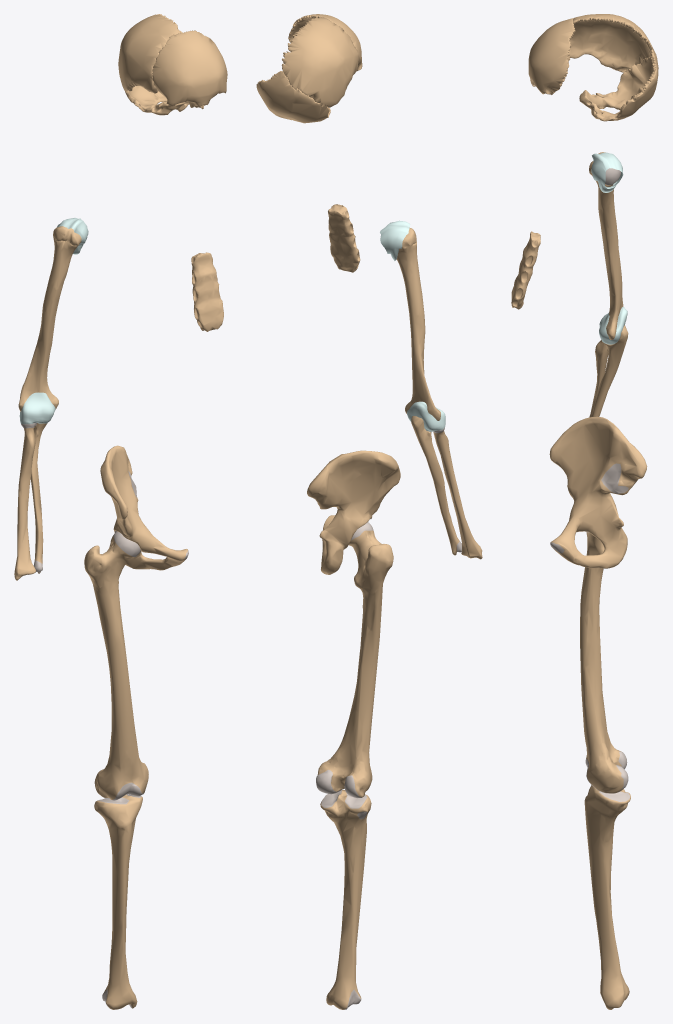
The model's file is fundamentals.glb.
3 renders of one model, left to right at view 1: azimuth 30°, elevation 25°; view 2: azimuth 150°, elevation 25°; view 3: azimuth 270°, elevation 25°, orthographic. The views are drawn at different scales.
Parts seen in each view (by area): view 1: bone_skull, bone_femur, bone_tibia, bone_pelvis, bone_humerus, bone_sternum, bone_radius, bone_ulna, joint_elbow; view 2: bone_skull, bone_femur, bone_pelvis, bone_tibia, bone_humerus, bone_sternum, bone_ulna, bone_radius, joint_shoulder, joint_elbow; view 3: bone_pelvis, bone_skull, bone_femur, bone_tibia, bone_humerus, bone_sternum, bone_ulna, joint_shoulder, joint_elbow, bone_radius.
Part boxes in pixels (box(x1,y1,x2,y2)): bone_skull: box(118, 14, 227, 115); bone_femur: box(84, 531, 148, 800); bone_tibia: box(94, 794, 142, 1009); bone_pelvis: box(100, 445, 188, 570); bone_humerus: box(18, 226, 81, 411); bone_sternum: box(191, 252, 223, 331); bone_radius: box(14, 423, 36, 580); bone_ulna: box(30, 423, 47, 573); joint_elbow: box(19, 392, 55, 424); bone_skull: box(256, 14, 362, 123); bone_femur: box(316, 522, 393, 798); bone_pelvis: box(307, 450, 400, 574); bone_tibia: box(320, 790, 371, 1009); bone_humerus: box(396, 227, 440, 420); bone_sternum: box(328, 204, 360, 272); bone_ulna: box(411, 416, 461, 555); bone_radius: box(433, 427, 482, 559); joint_shoulder: box(380, 220, 410, 260); joint_elbow: box(407, 401, 445, 431); bone_pelvis: box(549, 416, 647, 568); bone_skull: box(528, 14, 658, 121); bone_femur: box(580, 531, 628, 793); bone_tibia: box(584, 785, 630, 1009); bone_humerus: box(589, 152, 623, 339); bone_sternum: box(511, 231, 540, 309); bone_ulna: box(591, 325, 628, 416); joint_shoulder: box(591, 152, 623, 192); joint_elbow: box(599, 307, 627, 344); bone_radius: box(589, 340, 608, 417).
Size of the model in its own units: 0.3497 by 1.63 by 0.2156.
